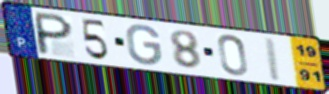0: (216, 33, 250, 77)
5: (79, 16, 111, 60)
8: (167, 29, 203, 70)
G: (125, 23, 164, 67)
I: (262, 36, 283, 84)
P: (35, 10, 75, 57)
